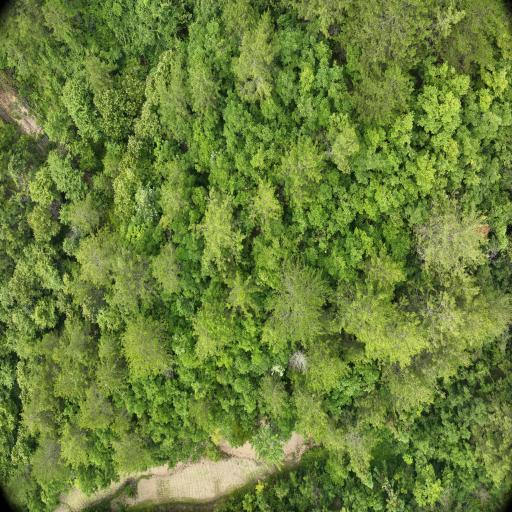dead-tree: (294, 352, 307, 368)
